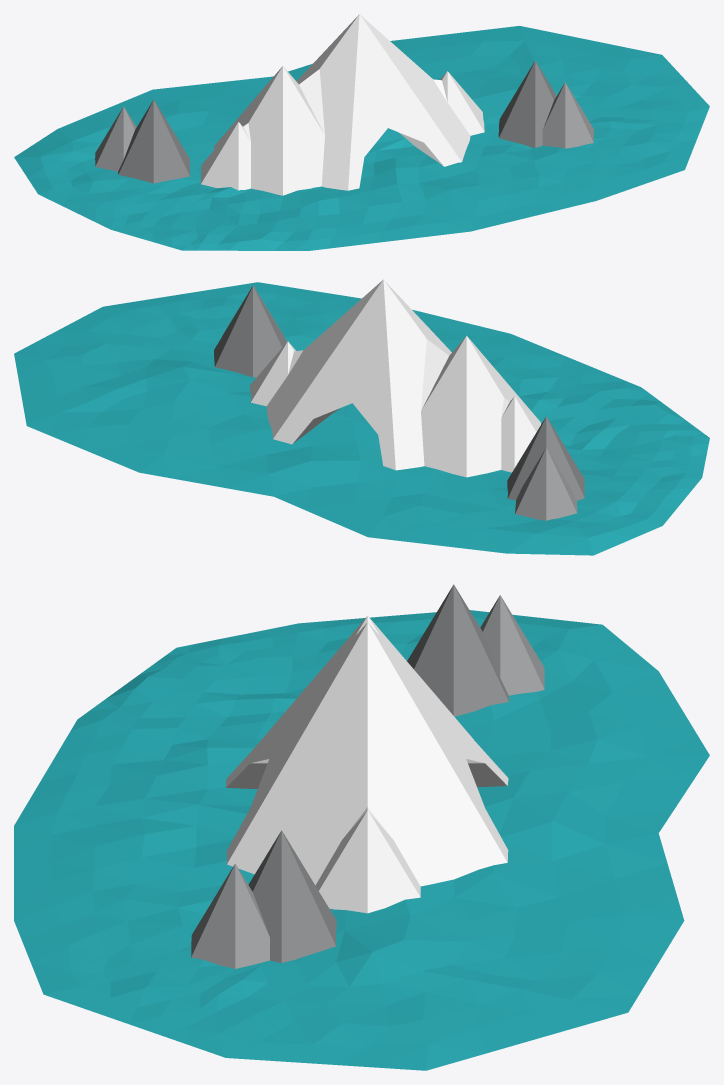
Rendered from Iceberg w Water.dae.
3 views of the same model, one above another, from view 1: azimuth 30°, elevation 25°; view 2: azimuth 150°, elevation 25°; view 3: azimuth 270°, elevation 25° (orthographic). The views are drawn at different scales.
Parts seen in each view (by area): view 1: SketchUp, Iceberg_V1 (×5); view 2: SketchUp, Iceberg_V1 (×4); view 3: SketchUp, Iceberg_V1 (×5).
Boxes of the visible parts, x1,y1,x2,y2 form: SketchUp: (14,26,709,250); Iceberg_V1 (×5): (95,14,593,195); SketchUp: (14,282,709,555); Iceberg_V1 (×4): (214,279,584,520); SketchUp: (14,610,709,1070); Iceberg_V1 (×5): (191,584,544,968).
Bounding box in the file's own units: 714 × 455 × 149.
